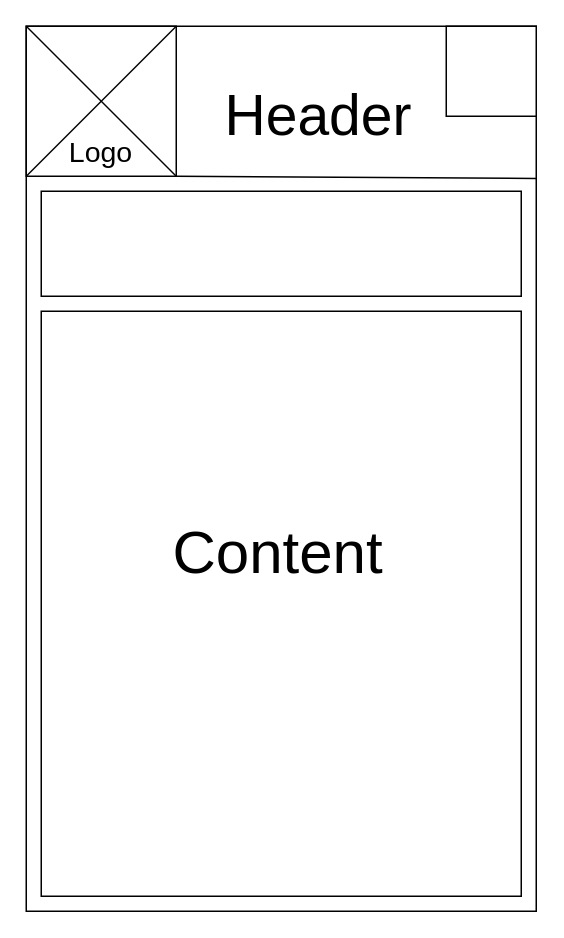
Image size: 564x938. Some labels were removed from this diagram. The box of each missing label's shape, as (x1, y1, x2, y2) in pixels:
Links to menu content: (40, 190, 521, 296)
Tabs: (445, 25, 536, 116)
